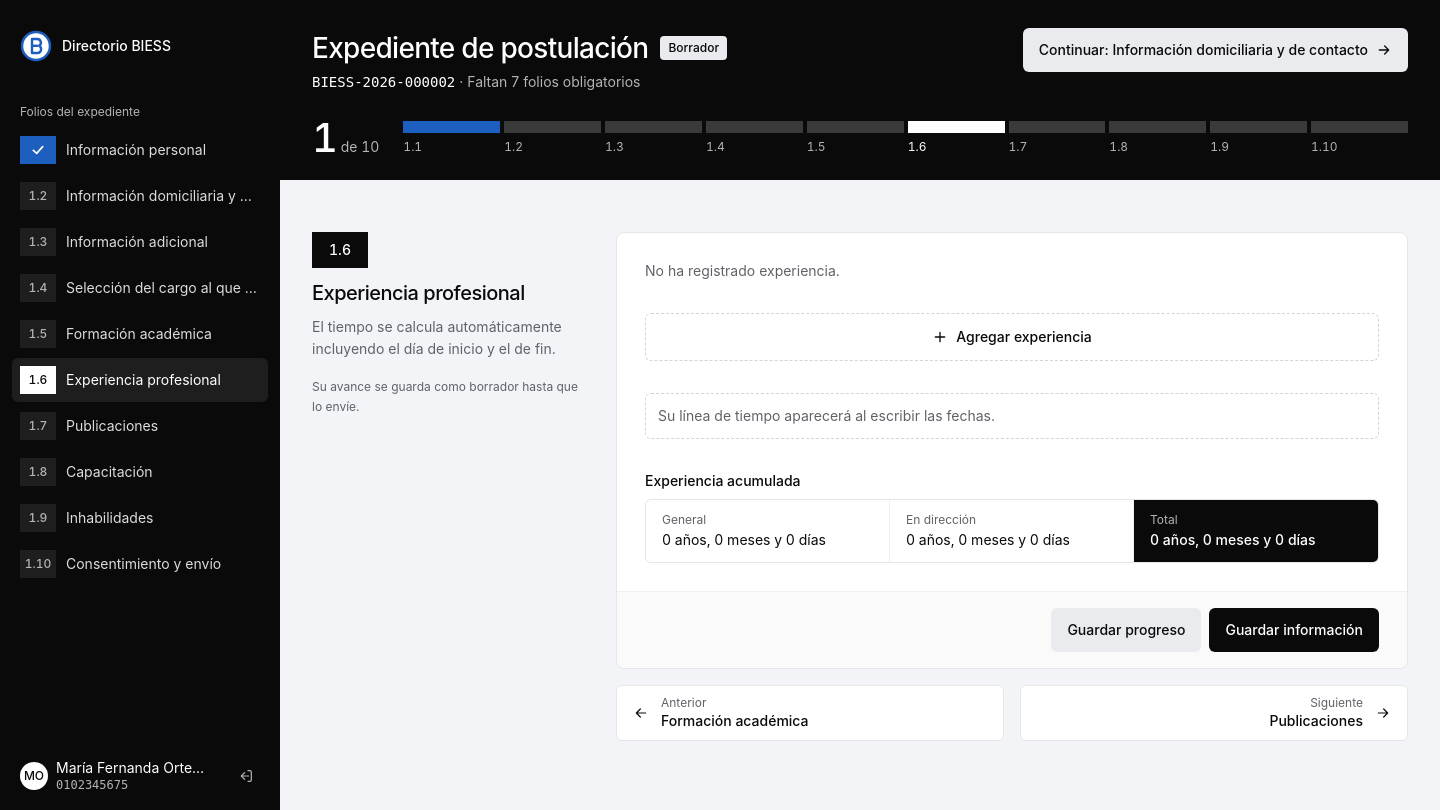
Test case: documentos de respaldo › la experiencia exige su PDF al guardar
Click the button "Agregar experiencia": (1012,337) [645,313,1379,361]
(page scrolled)
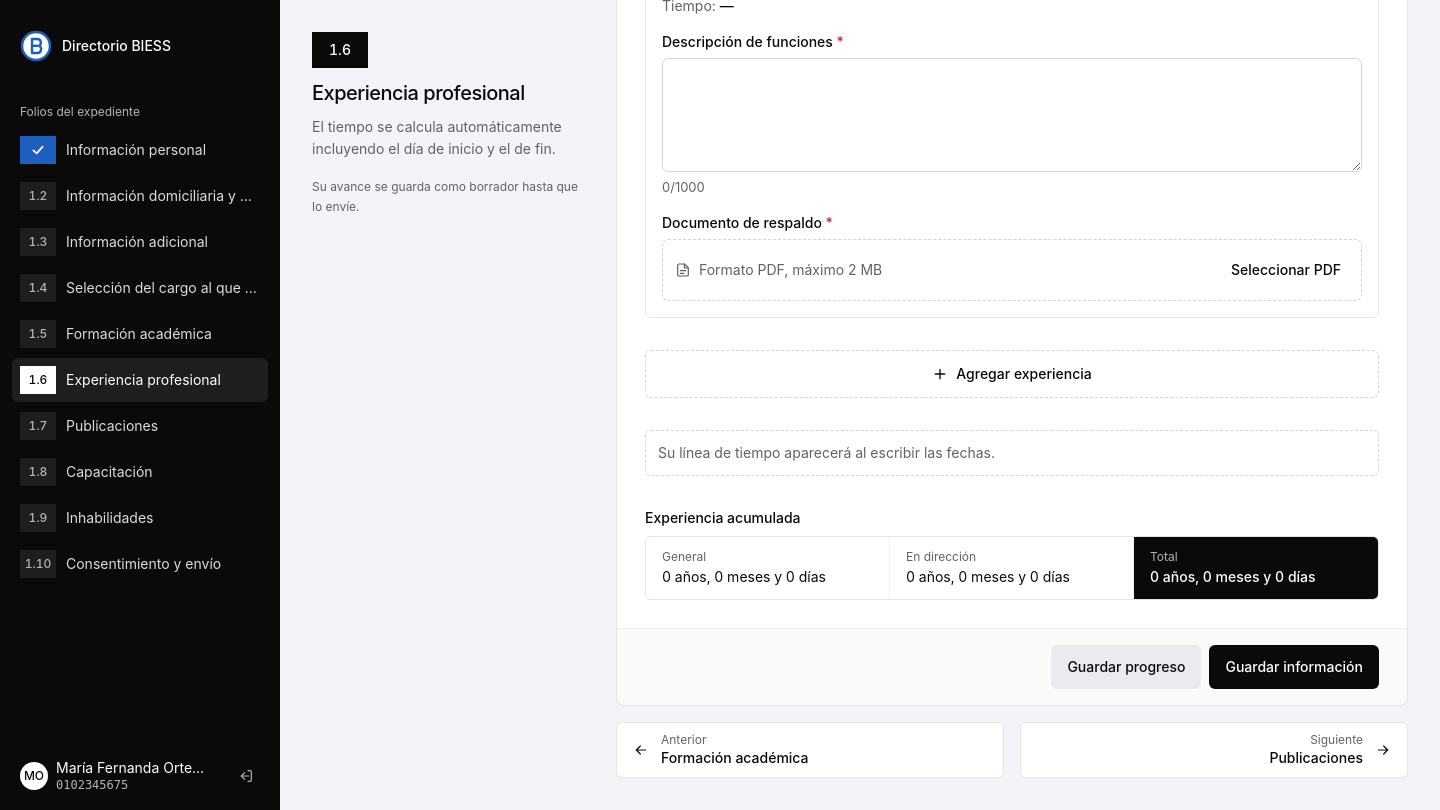
Click the button "Guardar progreso": (1126,667) [1051,645,1201,689]
(page scrolled)
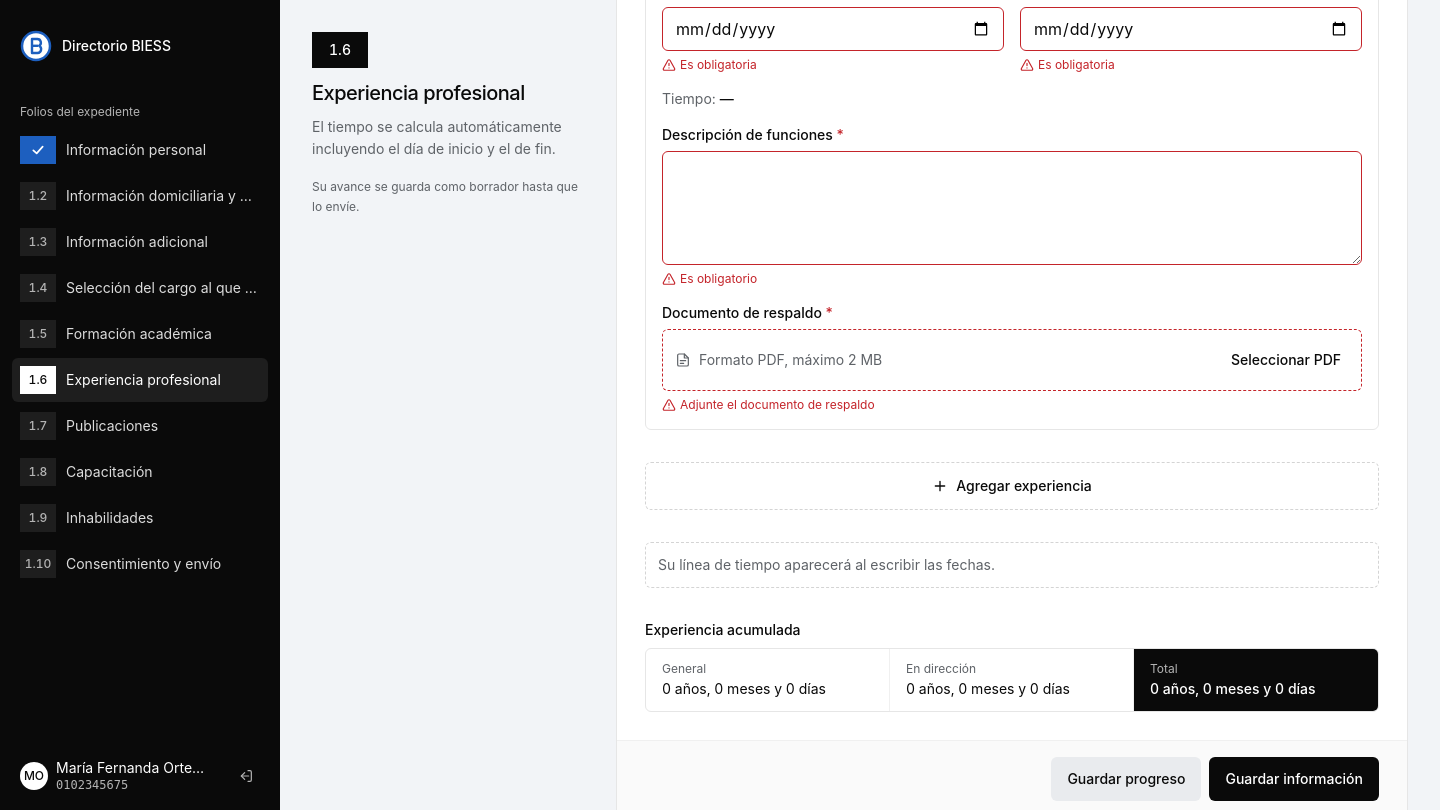
expect the text "Adjunte el documento de respaldo" is shown: met, box [662,397,875,412]
